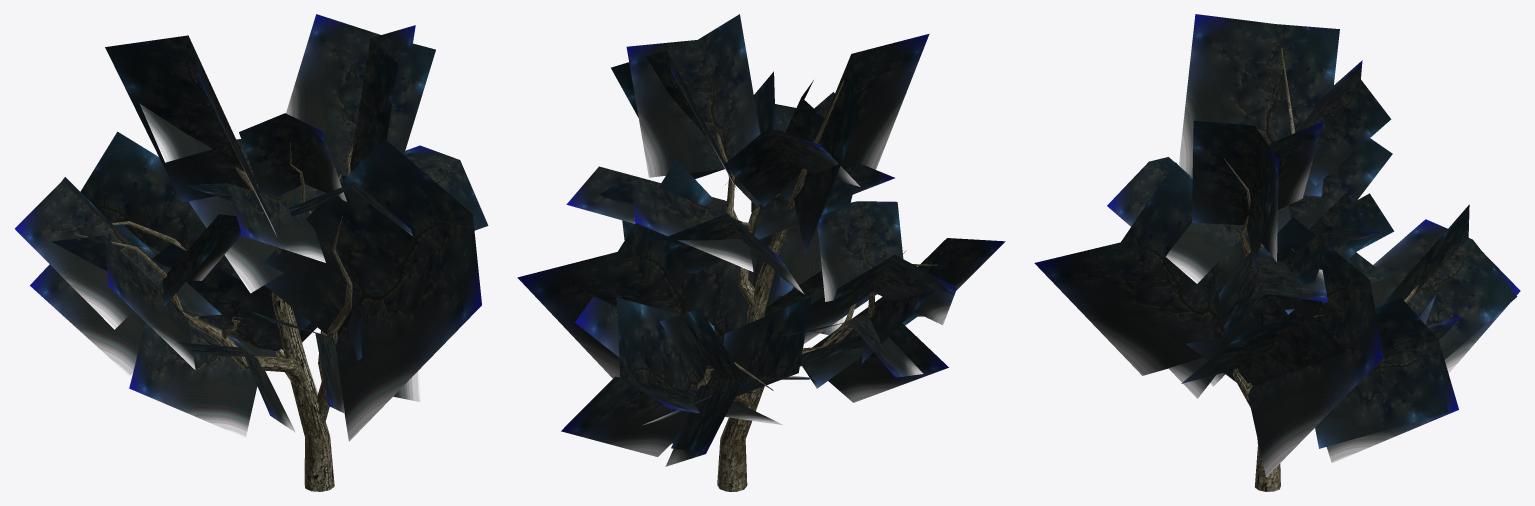
The model's file is oak-winter-c.DAE.
The picture shows the model from 3 angles, left to right: view 1: azimuth 30°, elevation 25°; view 2: azimuth 150°, elevation 25°; view 3: azimuth 270°, elevation 25°; orthographic projection. The views are drawn at different scales.
Parts seen in each view (by area): view 1: oak_c_winter; view 2: oak_c_winter; view 3: oak_c_winter.
Part boxes in pixels (x1,y1,x2,y2): oak_c_winter: (14,14,488,491); oak_c_winter: (517,14,1005,491); oak_c_winter: (1034,14,1520,491).
Size of the model in its own units: 1093 by 1272 by 1183.
